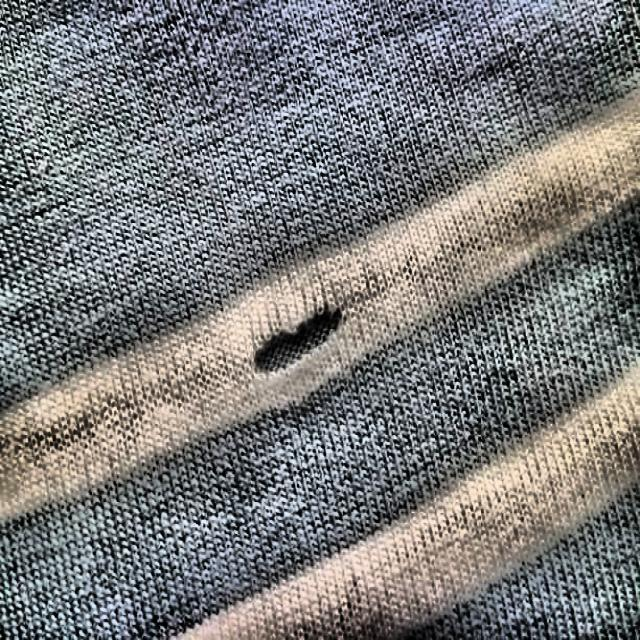Hole: (247, 296, 351, 378)
